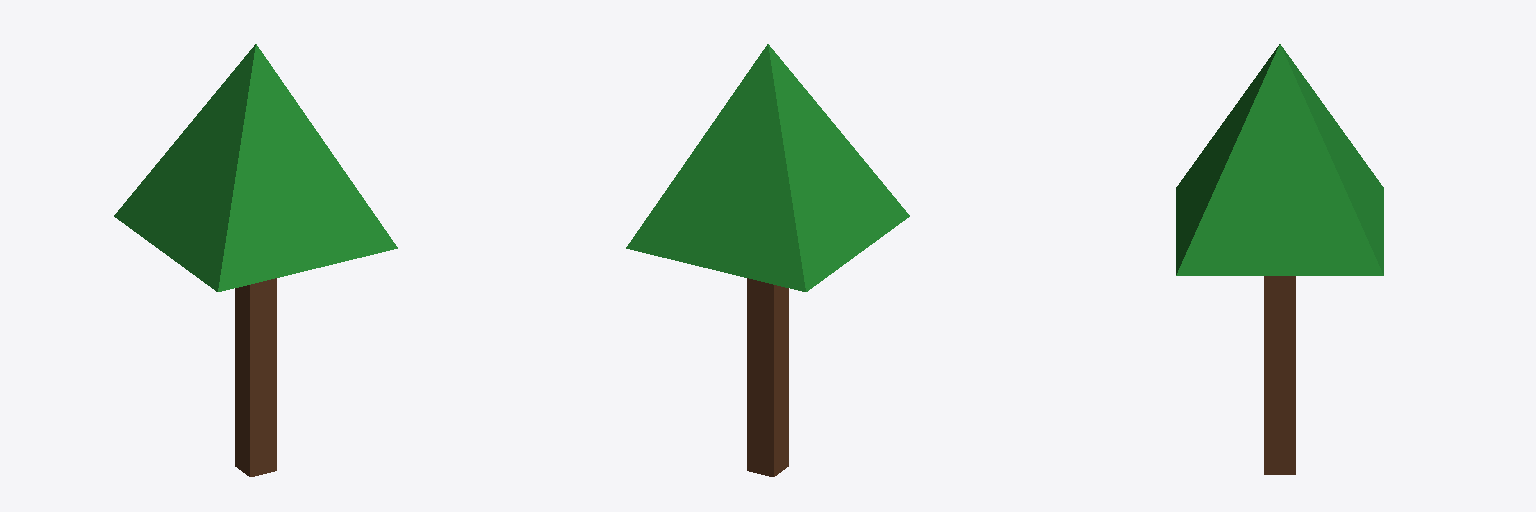
The model's file is tree.obj.
The picture shows the model from 3 angles: view 1: azimuth 30°, elevation 25°; view 2: azimuth 150°, elevation 25°; view 3: azimuth 270°, elevation 25°; orthographic projection.
Parts seen in each view (by area): view 1: Tree; view 2: Tree; view 3: Tree.
Part boxes in pixels (bbox=[...]): Tree: bbox=[114, 44, 397, 476]; Tree: bbox=[626, 44, 909, 476]; Tree: bbox=[1176, 44, 1383, 474].
Size of the model in its own units: 2 by 4.5 by 2.